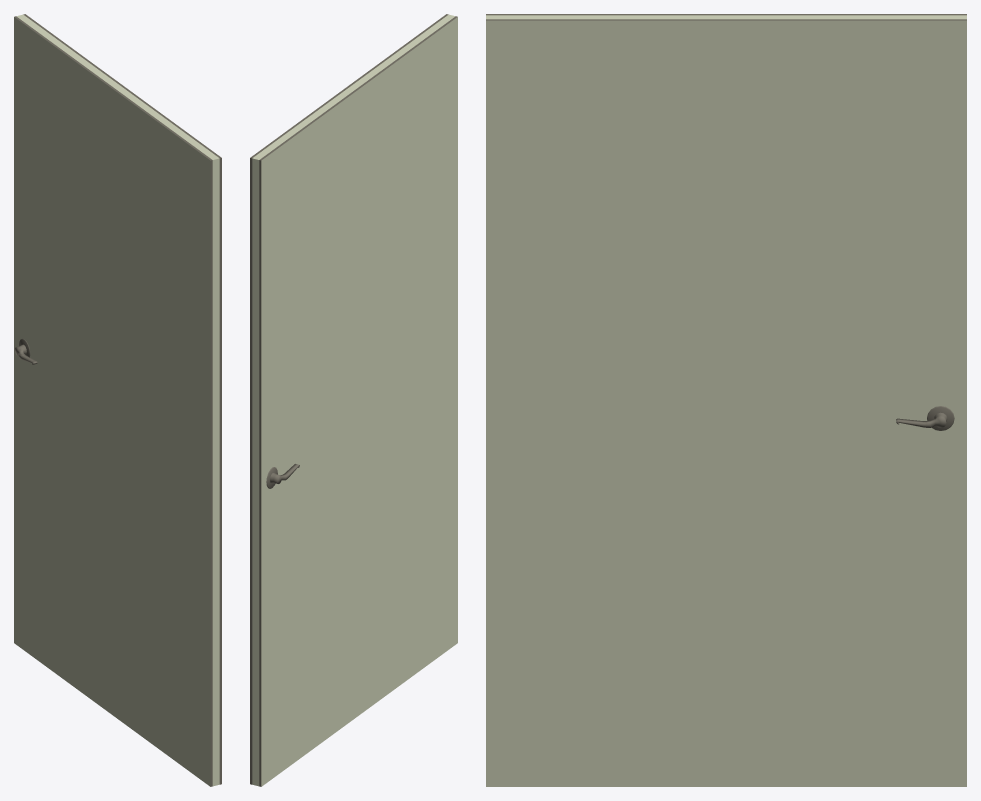
Rendered from Door.dae.
3 views of the same model, side by side, from view 1: azimuth 30°, elevation 25°; view 2: azimuth 150°, elevation 25°; view 3: azimuth 270°, elevation 25° (orthographic). The views are drawn at different scales.
Parts seen in each view (by area): view 1: Door; view 2: Door; view 3: Door.
Boxes of the visible parts, x1,y1,x2,y2 form: Door: [14, 14, 221, 786]; Door: [250, 14, 457, 786]; Door: [486, 14, 966, 786].
Size of the model in its own units: 0.1078 by 1.2 by 2.11.
